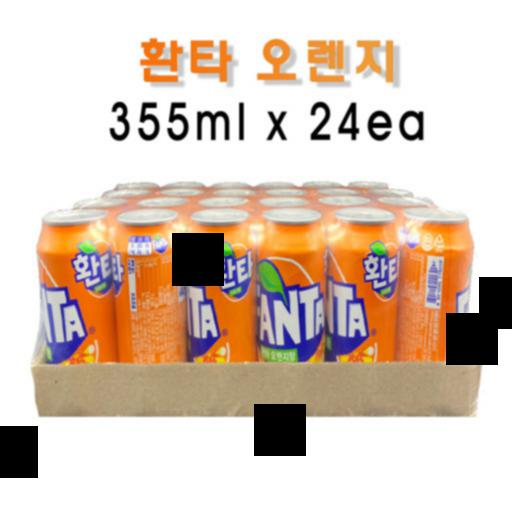fanta_orange: (329, 211, 407, 361), (256, 204, 326, 362)
